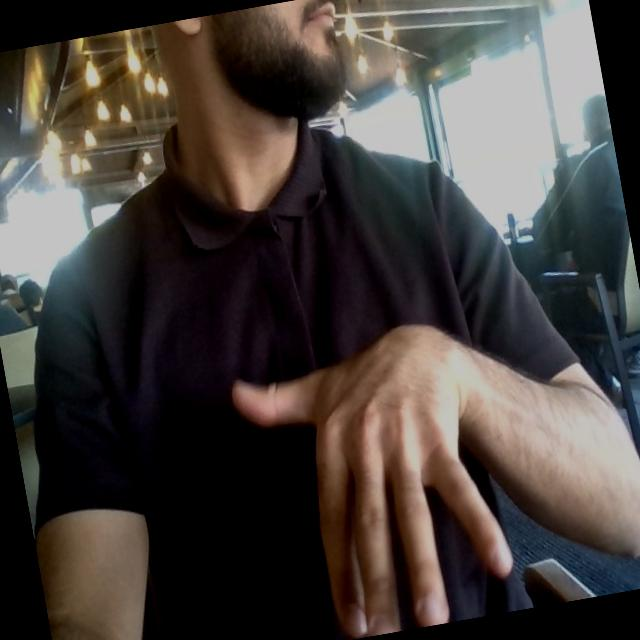Hand: (233, 326, 511, 637)
